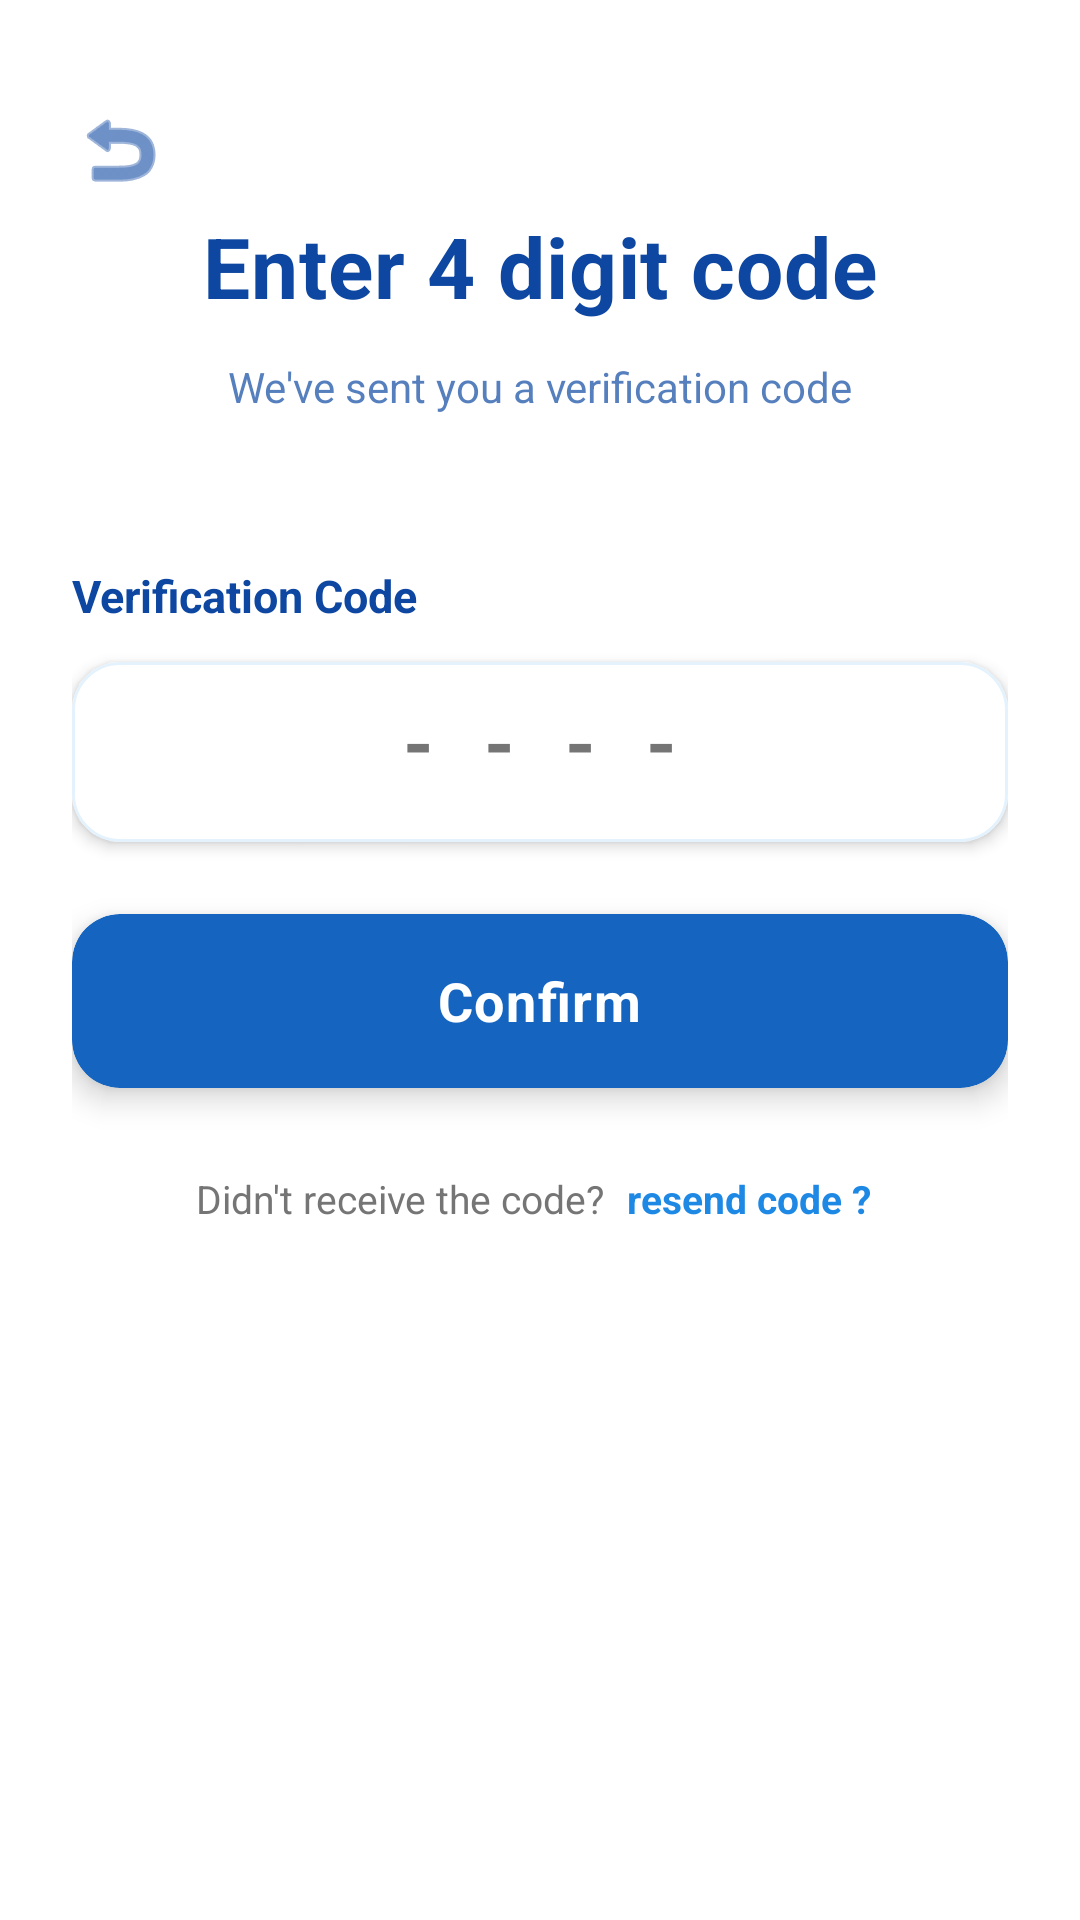

Locate icon controls on the screen. Image size 1080x1920, boxes as (x1, y1, x2, y2).
Back: (87, 119, 156, 182)
